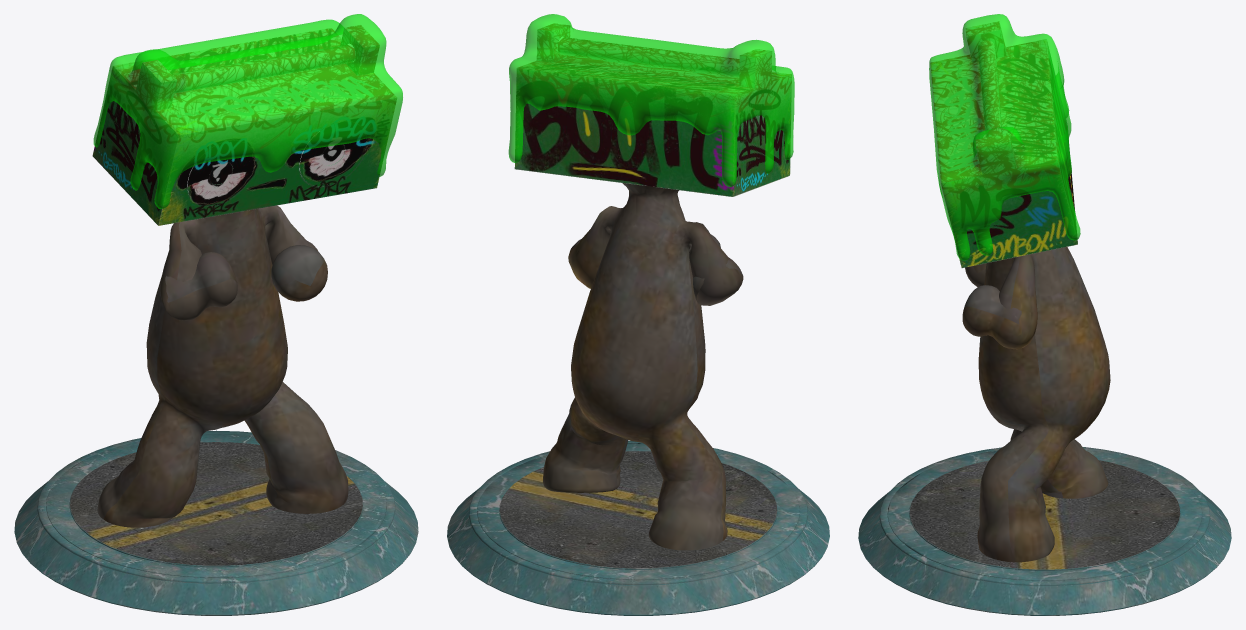
3 views of the same model, side by side, from view 1: azimuth 30°, elevation 25°; view 2: azimuth 150°, elevation 25°; view 3: azimuth 270°, elevation 25° (orthographic). The views are drawn at different scales.
Bounding box in the file's own units: 1.45 × 2.06 × 1.45.
5 materials, 4 textured.
